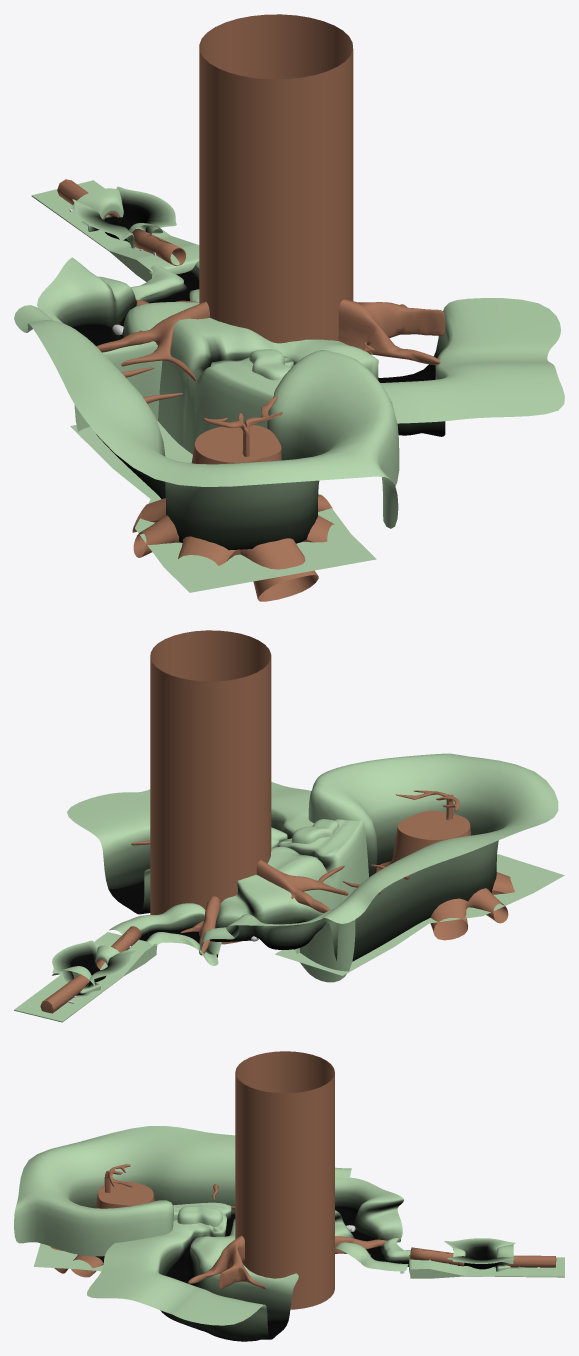
The model's file is Level Blockout 2.fbx.
The picture shows the model from 3 angles, top to bottom: view 1: azimuth 30°, elevation 25°; view 2: azimuth 150°, elevation 25°; view 3: azimuth 270°, elevation 25°; orthographic projection. The views are drawn at different scales.
Parts seen in each view (by area): view 1: Big_tree.002, Plane.015, Plane.018, Plane.014, Plane.016, Plane.019, root__2_.002, Floor.002, Cylinder_1.002, root__1_.002, Plane.017, Cylinder__1_.002 (+2 smaller); view 2: Big_tree.002, Plane.015, Plane.018, Plane.016, Plane.014, Plane.019, Plane.017, Floor.002, Cylinder_1.002, root__1_.002, Cylinder.002, root.002 (+2 smaller); view 3: Big_tree.002, Plane.015, Plane.018, Plane.016, Floor.002, Plane.014, Plane.017, root__2_.002, Cylinder_1.002, Plane.019, Cylinder.002, Cylinder__1_.002 (+2 smaller).
Boxes of the visible parts, box(x1,y1,x2,y2) form: Big_tree.002: box(199, 14, 353, 343); Plane.015: box(14, 305, 399, 549); Plane.018: box(158, 298, 564, 454); Plane.014: box(132, 424, 334, 601); Plane.016: box(37, 257, 199, 431); Plane.019: box(70, 421, 376, 592); root__2_.002: box(338, 299, 445, 364); Floor.002: box(31, 180, 199, 281); Cylinder_1.002: box(72, 186, 176, 248); root__1_.002: box(96, 301, 209, 381); Plane.017: box(131, 261, 199, 303); Cylinder__1_.002: box(129, 228, 185, 265); Big_tree.002: box(150, 630, 271, 944); Plane.015: box(308, 753, 558, 961); Plane.018: box(67, 781, 368, 953); Plane.016: box(199, 874, 355, 982); Plane.014: box(376, 810, 514, 940); Plane.019: box(275, 854, 564, 975); Plane.017: box(109, 903, 221, 965); Floor.002: box(14, 932, 157, 1022); Cylinder_1.002: box(52, 940, 137, 989); root__1_.002: box(256, 860, 348, 912); Cylinder.002: box(40, 974, 88, 1013); root.002: box(180, 896, 220, 955); Big_tree.002: box(235, 1051, 334, 1309); Plane.015: box(14, 1126, 351, 1262); Plane.018: box(87, 1202, 298, 1341); Plane.016: box(335, 1177, 403, 1241); Floor.002: box(409, 1249, 564, 1278); Plane.014: box(51, 1181, 154, 1277); Plane.017: box(335, 1237, 410, 1271); root__2_.002: box(188, 1235, 266, 1289); Cylinder_1.002: box(444, 1238, 517, 1269); Plane.019: box(33, 1243, 103, 1271); Cylinder.002: box(508, 1255, 556, 1267); Cylinder__1_.002: box(410, 1247, 464, 1266).
Size of the model in its own units: 100518 by 71470 by 142415.
